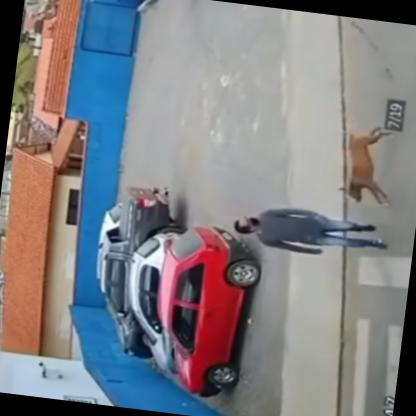Human Body: (230, 200, 390, 260)
